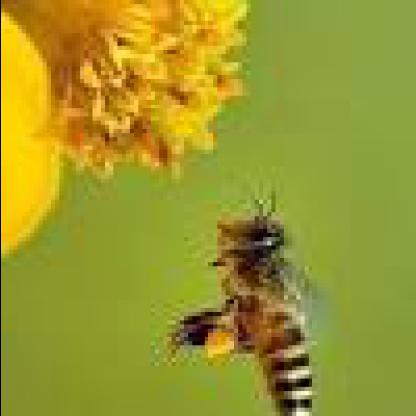other: (150, 204, 320, 412)
